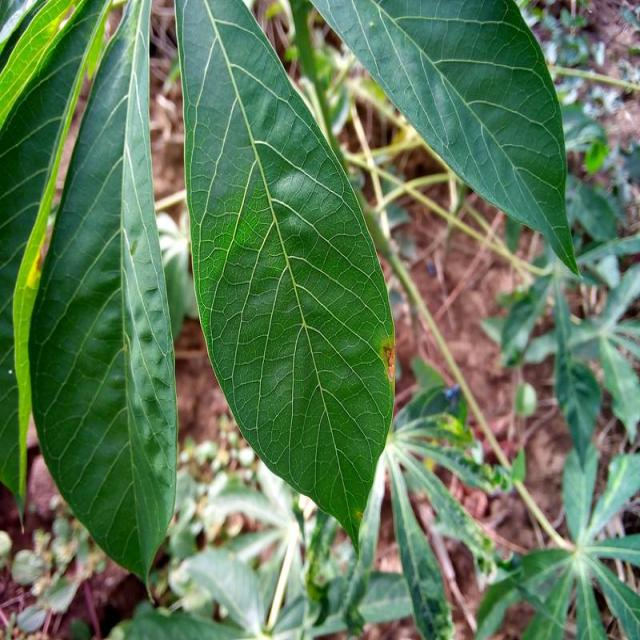cassava leaf: (173, 0, 397, 556), (26, 0, 178, 597), (308, 0, 582, 281), (0, 0, 113, 532)
